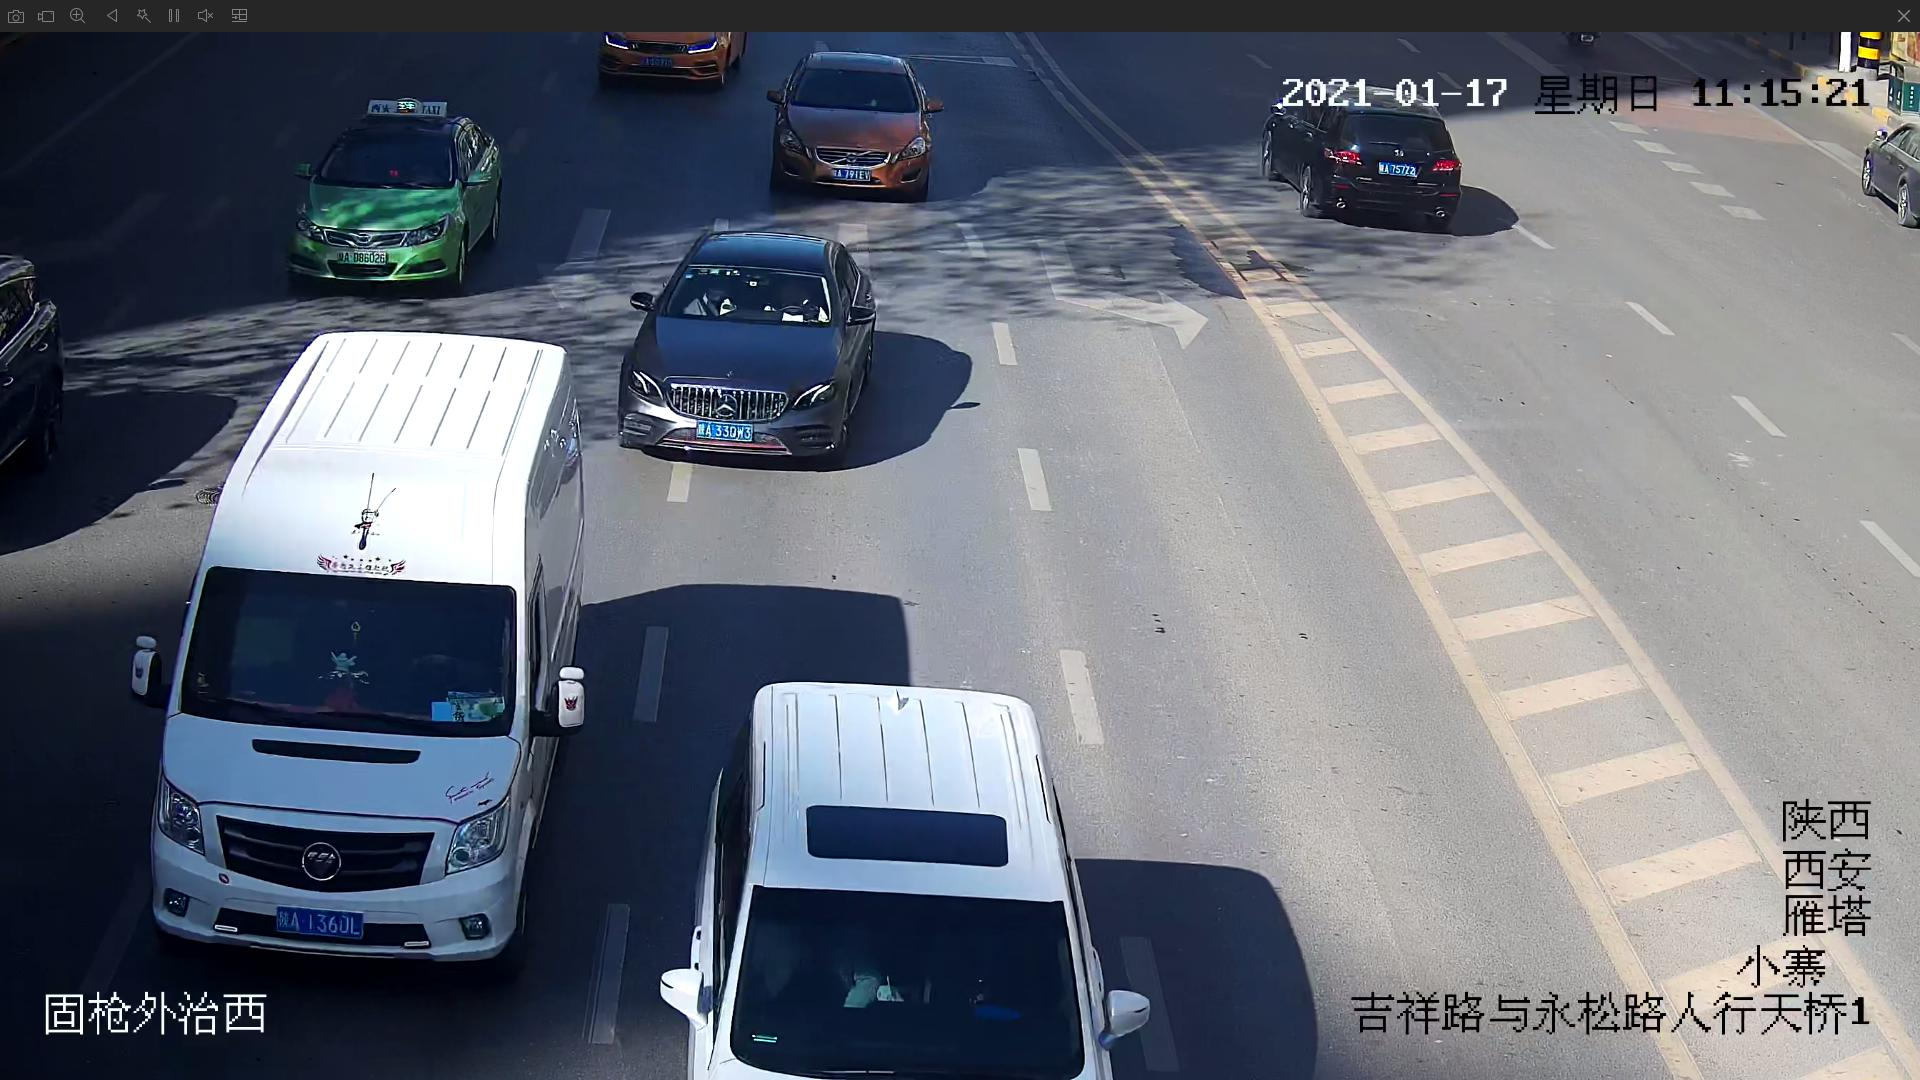black: (620, 232, 876, 468)
brown: (771, 51, 938, 187)
grass-green: (295, 100, 495, 295)
white: (111, 320, 612, 976), (686, 691, 1141, 1080)
